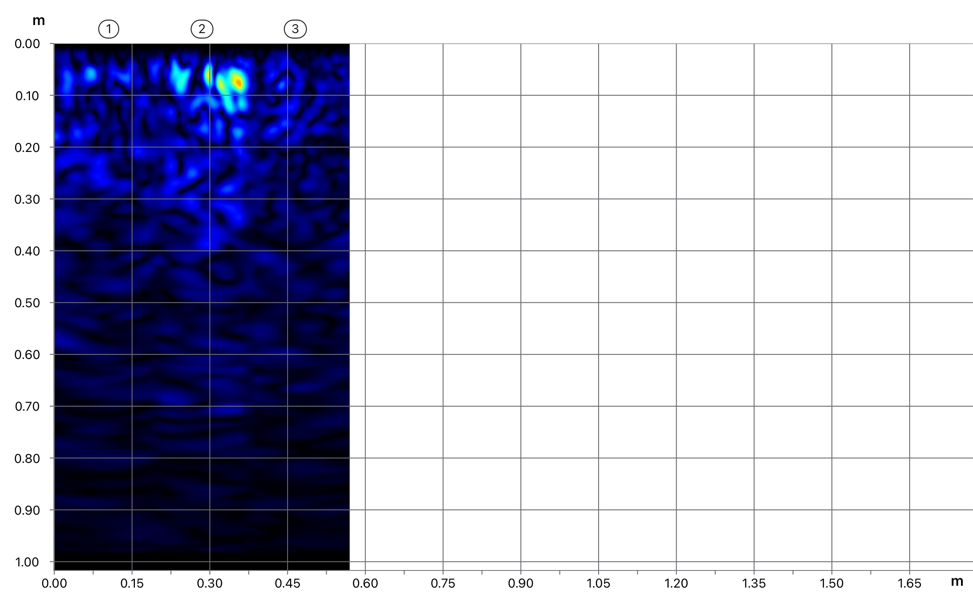crop: (0, 4, 350, 330)
